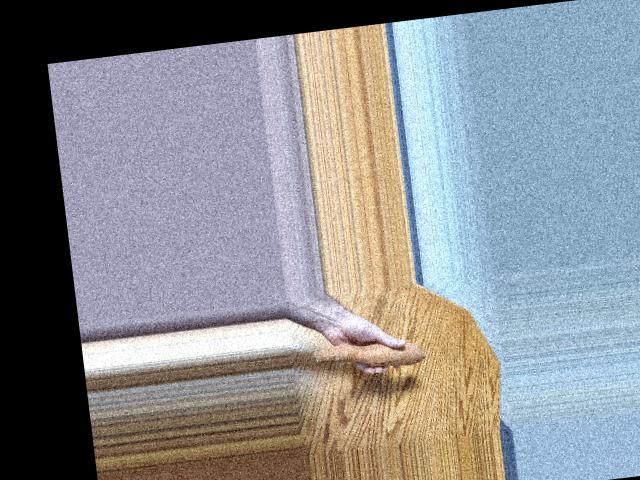sweet_potato: (309, 332, 428, 380)
